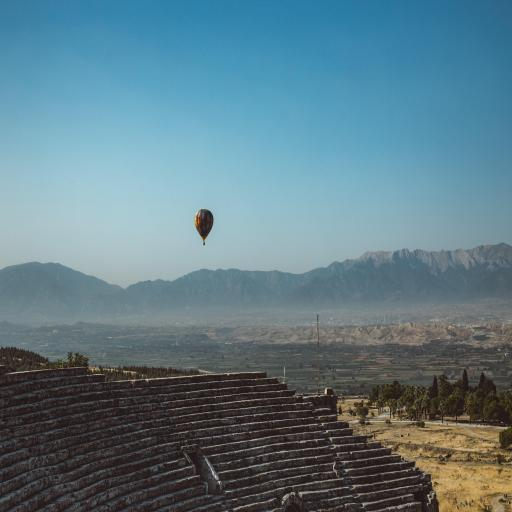hot air ballon: (194, 209, 213, 245)
